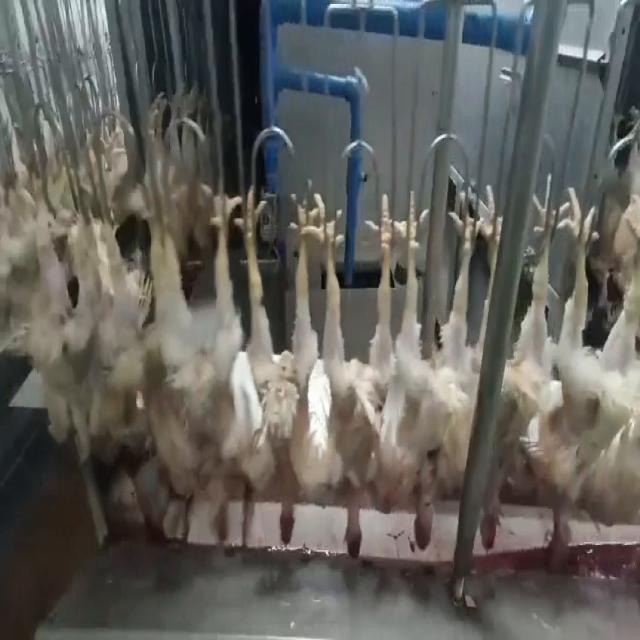chicken: (305, 192, 404, 568), (542, 175, 636, 562), (392, 177, 489, 551), (480, 176, 575, 553), (149, 183, 237, 552), (239, 183, 312, 552), (67, 178, 145, 491)
